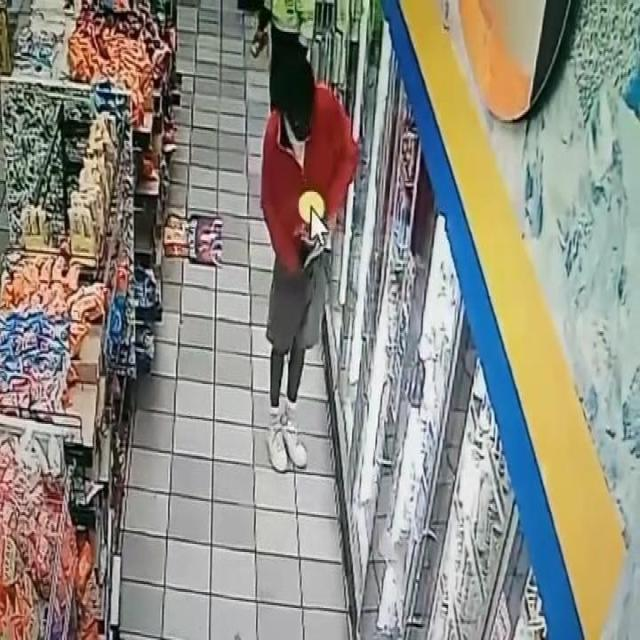Shoplifting: (243, 20, 370, 520)
